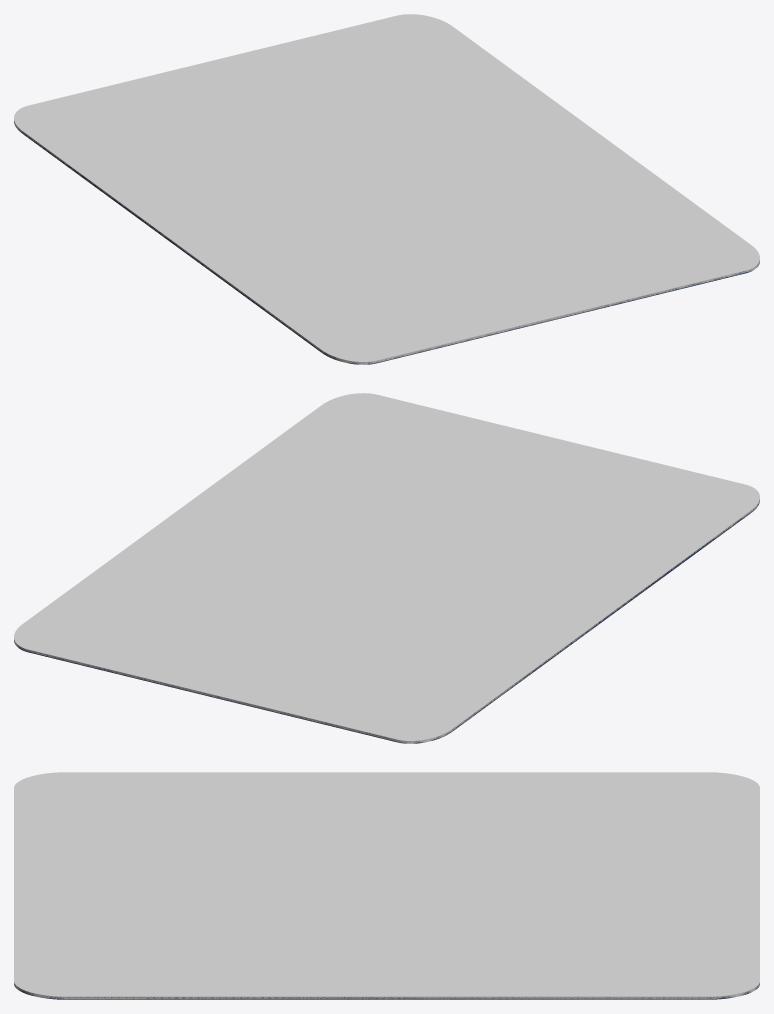
The model's file is card.glb.
3 views of the same model, one above another, from view 1: azimuth 30°, elevation 25°; view 2: azimuth 150°, elevation 25°; view 3: azimuth 270°, elevation 25° (orthographic). The views are drawn at different scales.
Visible parts, largest first — view 1: cardFrontSide, cardBackSide; view 2: cardFrontSide, cardBackSide; view 3: cardFrontSide, cardBackSide.
Boxes of the visible parts, x1=… form: cardFrontSide: x1=14, y1=14, x2=759, y2=364; cardBackSide: x1=14, y1=122, x2=759, y2=364; cardFrontSide: x1=14, y1=393, x2=759, y2=743; cardBackSide: x1=14, y1=500, x2=759, y2=743; cardFrontSide: x1=14, y1=772, x2=759, y2=998; cardBackSide: x1=14, y1=984, x2=759, y2=999.
Size of the model in its own units: 1.17 by 0.00738 by 1.64.
Materials: 1 (1 with a texture image).
